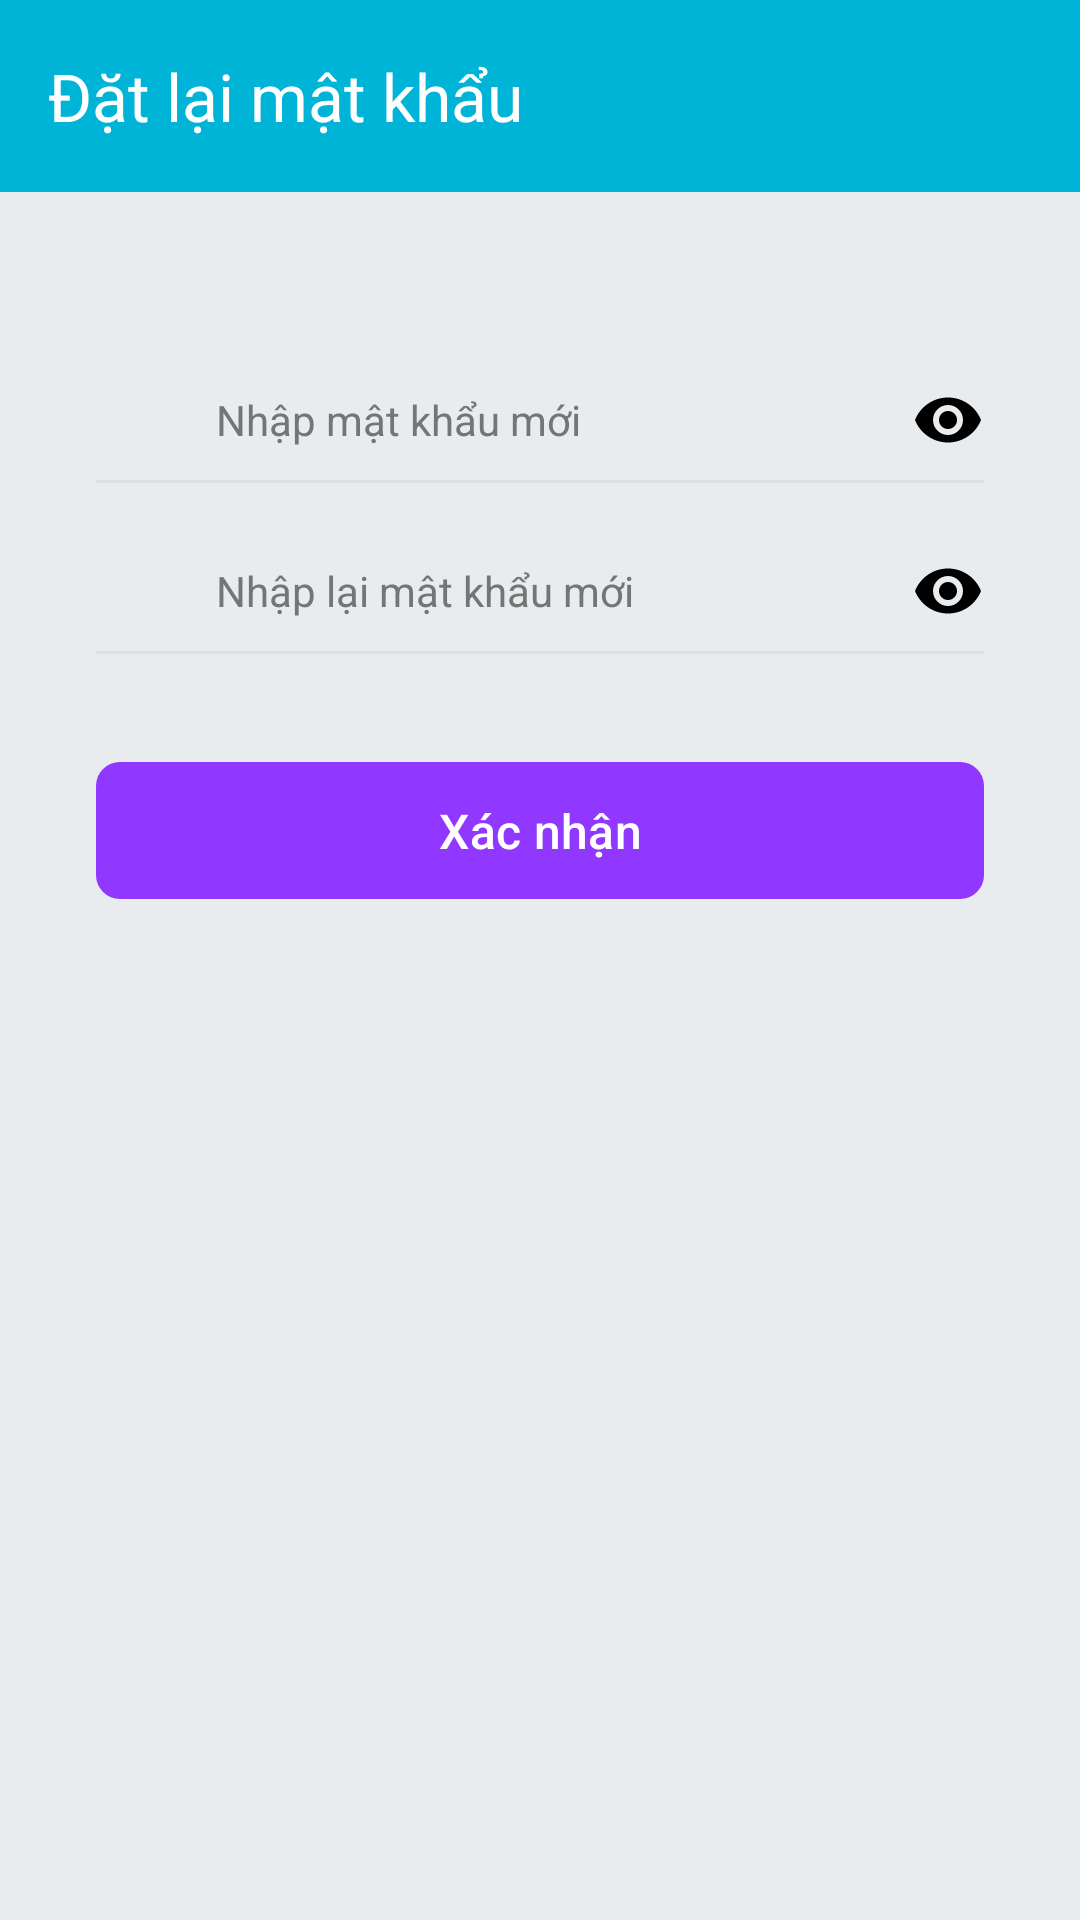

Locate icon controls on the screen. Image size 1080 × 1920, boxes as box(x1, y1, x2, y2).
eye: box(915, 397, 981, 443), box(915, 568, 981, 614)
